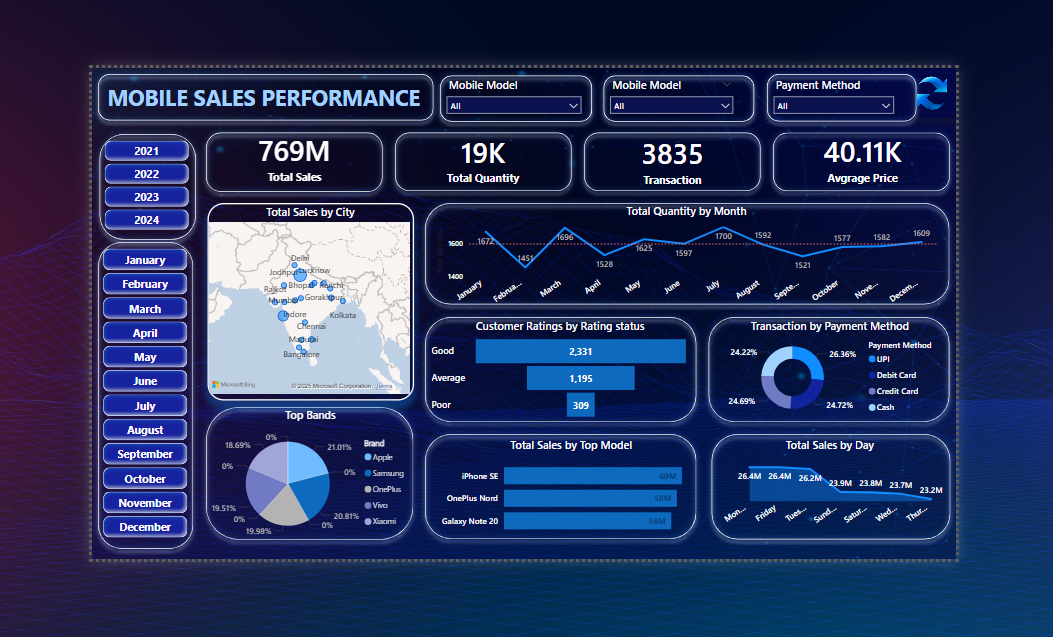

This screenshot's page, from the dashboard's own definition file:
{"tool":"powerbi","page":{"name":" Dashboard","canvas":[1280,728],"ordinal":0},"visuals":[{"type":"shape","box":[0,0,514.7,86.8],"z":0},{"type":"shape","box":[749,2,241.2,86.3],"z":1000},{"type":"shape","box":[990.2,0,239.2,88.2],"z":2000},{"type":"shape","box":[160.3,86.1,279.5,106],"z":3000},{"type":"shape","box":[439.8,87.4,279.5,104.6],"z":4000},{"type":"shape","box":[719.3,87.4,279.5,104.6],"z":5000},{"type":"shape","box":[2,88.2,160.8,174.5],"z":6000},{"type":"shape","box":[1000.1,87.4,280,105],"z":7000},{"type":"shape","box":[0,249,158.8,472.5],"z":8000},{"type":"shape","box":[160.3,492.6,325,214.7],"z":9000},{"type":"shape","box":[484.8,533.8,419.9,173.5],"z":10000},{"type":"shape","box":[904.7,360.3,374.9,173.5],"z":11000},{"type":"shape","box":[907.9,533.7,371.9,174.2],"z":12000},{"type":"shape","box":[484.8,192.1,794.8,168.2],"z":13000},{"type":"shape","box":[484.8,360.3,419.9,173.5],"z":14000},{"type":"lineChart","fields":{"Category":["Custom_calender.Date.Variation.Date Hierarchy.Month"],"Y":["Sales Date.Total Quantity"]},"box":[505,200.4,752.7,159.7],"z":15000},{"type":"funnel","title":"Customer Ratings by Rating status","fields":{"Category":["Sales Date.Rating status"],"Y":["CountNonNull(Sales Date.Customer Ratings)"]},"box":[498.6,370.8,391.7,154.2],"z":16000},{"type":"donutChart","fields":{"Category":["Sales Date.Payment Method"],"Y":["Sales Date.Transaction"]},"box":[919.1,370.8,346.1,152.8],"z":17000},{"type":"areaChart","title":"Total Sales by Day ","fields":{"Y":["Sales Date.Total_Sales"],"Category":["Custom_calender.Day Name"]},"box":[919.4,546.9,345.9,140.8],"z":18000},{"type":"map","fields":{"Category":["Sales Date.City"],"Size":["Sales Date.Total_Sales"]},"box":[170.6,200,305.9,292.6],"z":19000},{"type":"advancedSlicerVisual","fields":{"Values":["Custom_calender.Date.Variation.Date Hierarchy.Month"]},"box":[11.8,262.7,135.3,445.1],"z":20000},{"type":"textbox","box":[17.2,14.9,497.7,58.6],"z":21000},{"type":"card","fields":{"Values":["Sales Date.Total Sales"]},"box":[207,85.9,185.9,88.7],"z":22000},{"type":"card","fields":{"Values":["Sales Date.Total Quantity"]},"box":[487.3,88.7,184.5,90.1],"z":23000},{"type":"card","fields":{"Values":["Sales Date.Transaction"]},"box":[766.2,90.1,185.9,90.1],"z":24000},{"type":"card","fields":{"Values":["Sales Date.Avgrage Price"]},"box":[1047.9,88.7,184.5,88.7],"z":25000},{"type":"pieChart","title":"Top Bands","fields":{"Category":["Sales Date.Brand"],"Y":["Sales Date.Total_Sales","Sales Date.Transaction"]},"box":[171.9,501.8,305.3,205.3],"z":26000},{"type":"clusteredBarChart","title":"Total Sales by Top  Model","fields":{"Y":["Sales Date.Total_Sales"],"Category":["Sales Date.Mobile Model"]},"box":[510.8,545.8,397.6,156.6],"z":27000},{"type":"shape","box":[505.9,2,243.1,86.3],"z":28000},{"type":"slicer","fields":{"Values":["Sales Date.Mobile Model"]},"box":[758.8,7.8,202,70.6],"z":29000},{"type":"slicer","fields":{"Values":["Sales Date.Payment Method"]},"box":[1000,7.8,198,68.6],"z":30000},{"type":"slicer","fields":{"Values":["Sales Date.Mobile Model"]},"box":[515.7,7.8,219.6,70.6],"z":31000},{"type":"pageNavigator","box":[11.8,147.1,135.3,58.8],"z":32000},{"type":"advancedSlicerVisual","fields":{"Values":["Custom_calender.Date.Variation.Date Hierarchy.Year"]},"box":[13.7,102,135.3,145.1],"z":33000},{"type":"image","box":[1209.9,2.5,70.4,71.6],"z":35001}]}

Visuals, with their boxes on the page's 1280x728 design canvas (x1, y1, x2, y2). These are canvas units, not pixel positions in the 1053x637 screenshot, which may show the page scaled, cropped or inside an application window:
shape: <bbox>0, 0, 515, 87</bbox>
shape: <bbox>749, 2, 990, 88</bbox>
shape: <bbox>990, 0, 1229, 88</bbox>
shape: <bbox>160, 86, 440, 192</bbox>
shape: <bbox>440, 87, 719, 192</bbox>
shape: <bbox>719, 87, 999, 192</bbox>
shape: <bbox>2, 88, 163, 263</bbox>
shape: <bbox>1000, 87, 1280, 192</bbox>
shape: <bbox>0, 249, 159, 722</bbox>
shape: <bbox>160, 493, 485, 707</bbox>
shape: <bbox>485, 534, 905, 707</bbox>
shape: <bbox>905, 360, 1280, 534</bbox>
shape: <bbox>908, 534, 1280, 708</bbox>
shape: <bbox>485, 192, 1280, 360</bbox>
shape: <bbox>485, 360, 905, 534</bbox>
lineChart - Custom_calender.Date.Variation.Date Hierarchy.Month x Sales Date.Total Quantity: <bbox>505, 200, 1258, 360</bbox>
"Customer Ratings by Rating status" funnel: <bbox>499, 371, 890, 525</bbox>
donutChart - Sales Date.Payment Method x Sales Date.Transaction: <bbox>919, 371, 1265, 524</bbox>
"Total Sales by Day " areaChart: <bbox>919, 547, 1265, 688</bbox>
map - Sales Date.City x Sales Date.Total_Sales: <bbox>171, 200, 476, 493</bbox>
advancedSlicerVisual - Custom_calender.Date.Variation.Date Hierarchy.Month: <bbox>12, 263, 147, 708</bbox>
textbox: <bbox>17, 15, 515, 74</bbox>
card - Sales Date.Total Sales: <bbox>207, 86, 393, 175</bbox>
card - Sales Date.Total Quantity: <bbox>487, 89, 672, 179</bbox>
card - Sales Date.Transaction: <bbox>766, 90, 952, 180</bbox>
card - Sales Date.Avgrage Price: <bbox>1048, 89, 1232, 177</bbox>
"Top Bands" pieChart: <bbox>172, 502, 477, 707</bbox>
"Total Sales by Top  Model" clusteredBarChart: <bbox>511, 546, 908, 702</bbox>
shape: <bbox>506, 2, 749, 88</bbox>
slicer - Sales Date.Mobile Model: <bbox>759, 8, 961, 78</bbox>
slicer - Sales Date.Payment Method: <bbox>1000, 8, 1198, 76</bbox>
slicer - Sales Date.Mobile Model: <bbox>516, 8, 735, 78</bbox>
pageNavigator: <bbox>12, 147, 147, 206</bbox>
advancedSlicerVisual - Custom_calender.Date.Variation.Date Hierarchy.Year: <bbox>14, 102, 149, 247</bbox>
image: <bbox>1210, 2, 1280, 74</bbox>
